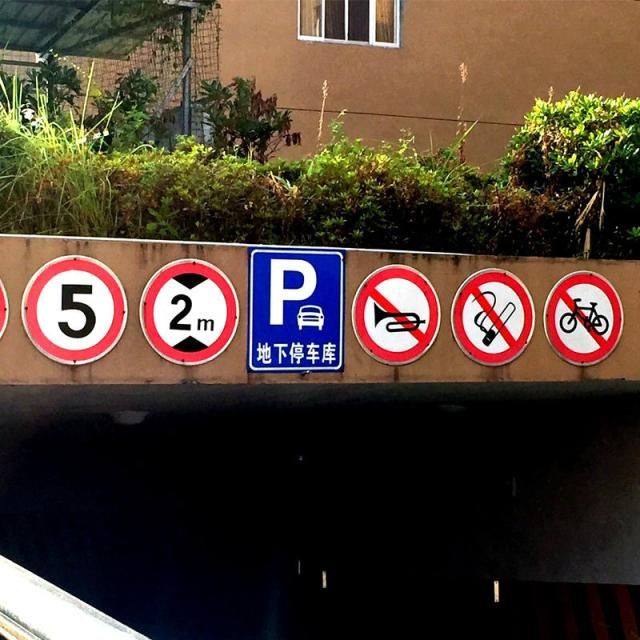speed limit 10: (20, 254, 127, 368)
